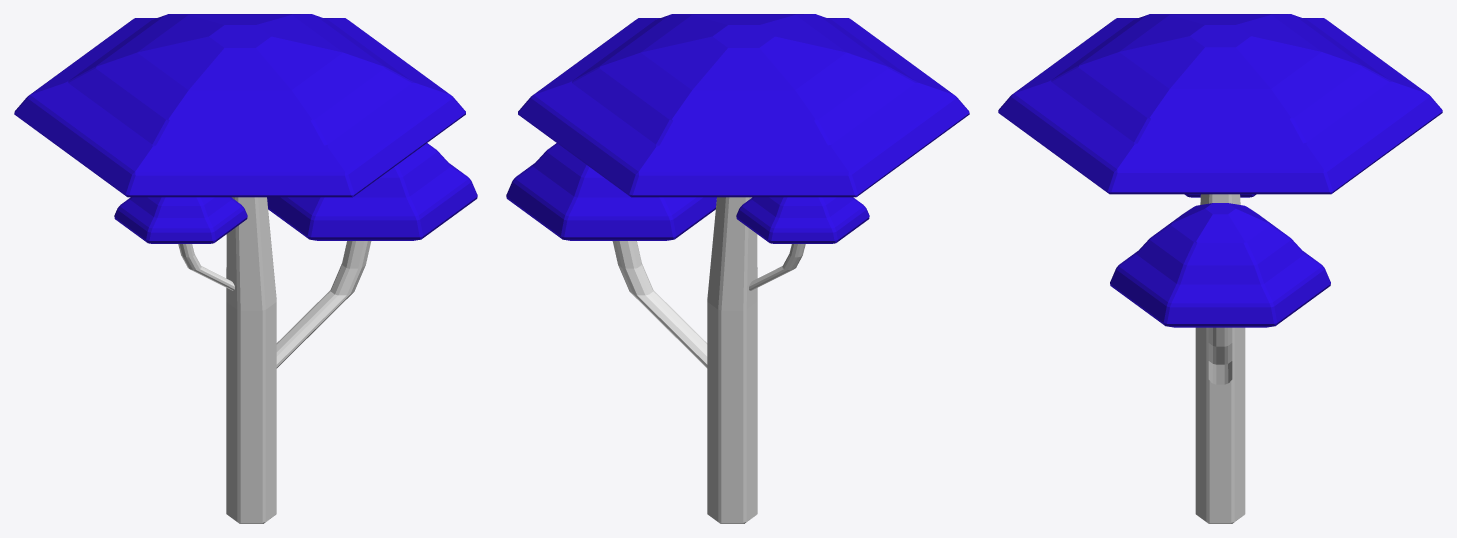
File: Mushroom_03Big.fbx
3 renders of one model, left to right at view 1: azimuth 30°, elevation 25°; view 2: azimuth 150°, elevation 25°; view 3: azimuth 270°, elevation 25°, orthographic.
Parts seen in each view (by area): view 1: Mushroom_03Big; view 2: Mushroom_03Big; view 3: Mushroom_03Big.
Boxes of the visible parts, x1,y1,x2,y2 form: Mushroom_03Big: (14,14,477,523); Mushroom_03Big: (506,14,969,523); Mushroom_03Big: (998,14,1442,523).
Size of the model in its own units: 334 by 404 by 344.
